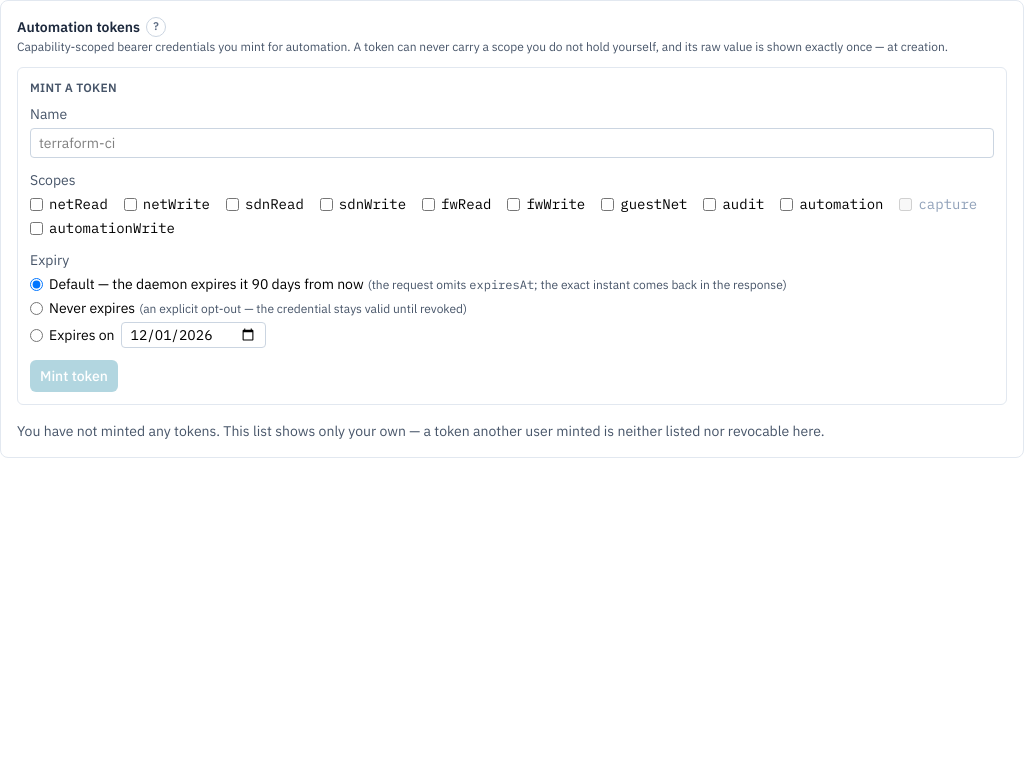
Test: minting › sends an explicit null only when 'never expires' is chosen
Expected: the text with test id "tokens-empty" is shown, [17,422,824,440]
Type "forever" into the field with placeholder "terraform-ci" at [512, 143], box [30,128,994,158]
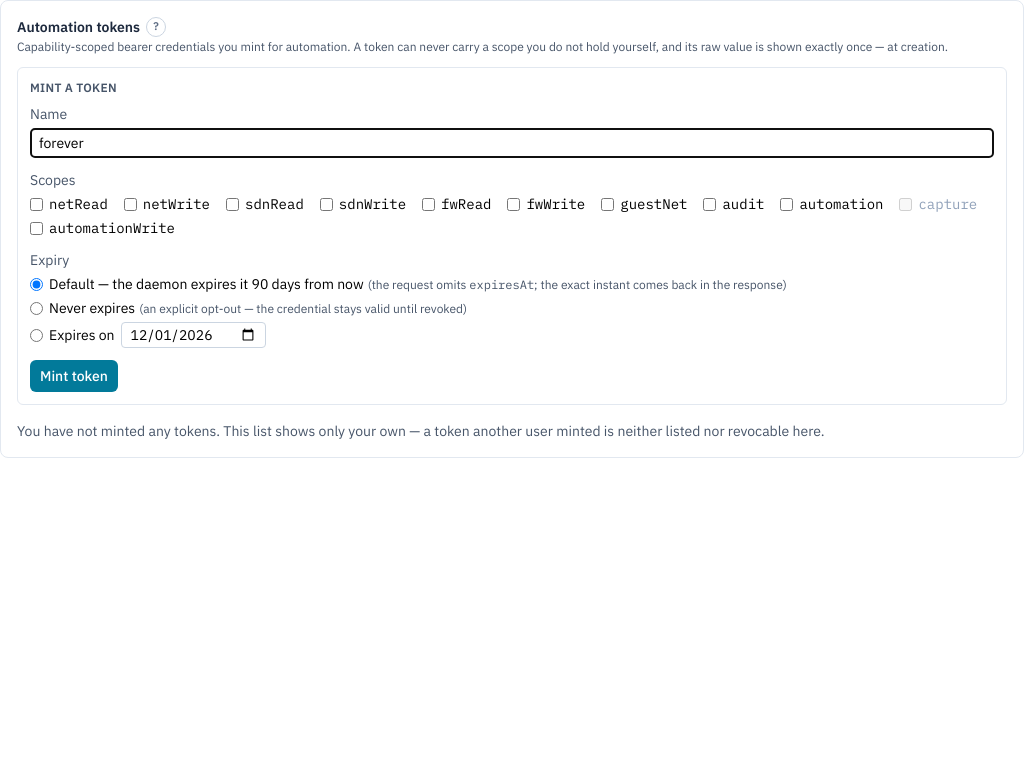
Click the radio button labelled "Never expires" at [36, 308], box [30,302,43,314]
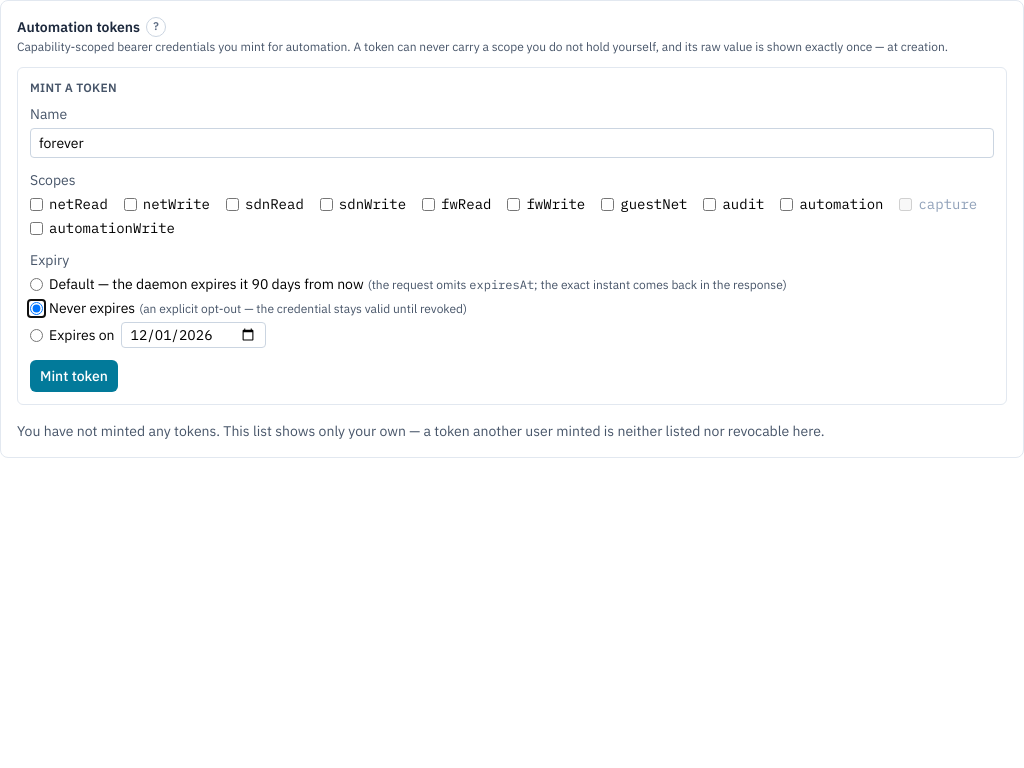
Click the button with test id "mint-token" at [74, 376], box [30,360,118,392]
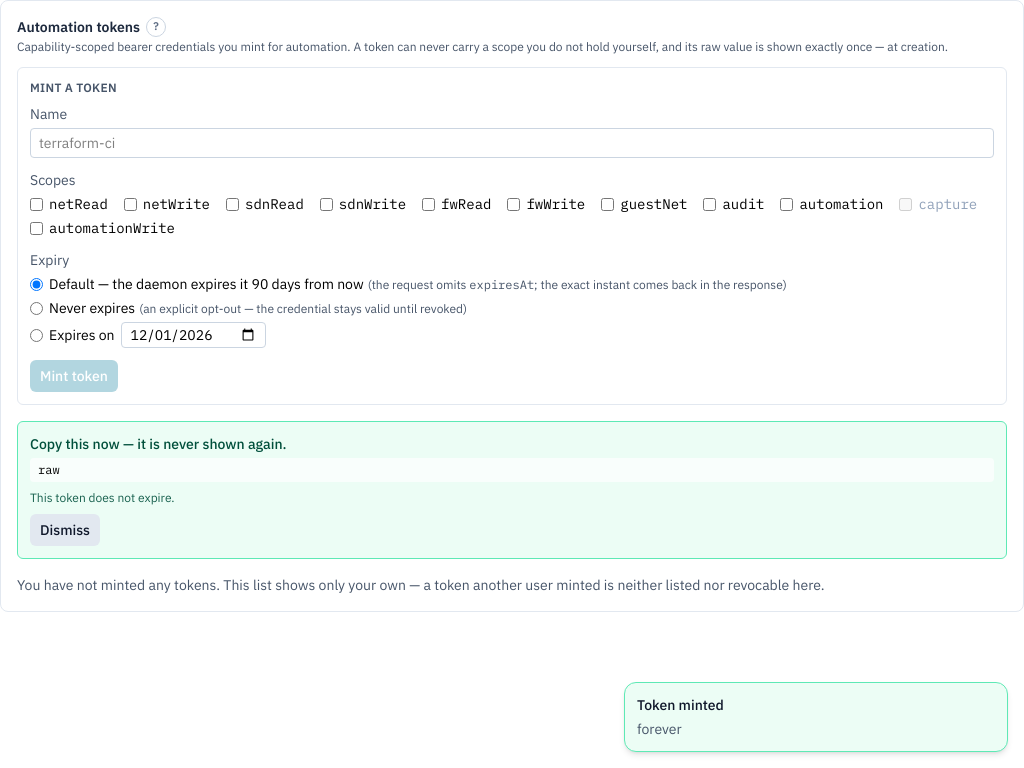
Expected: the text with test id "minted-token-expiry" shows "does not expire", [30,490,175,505]
